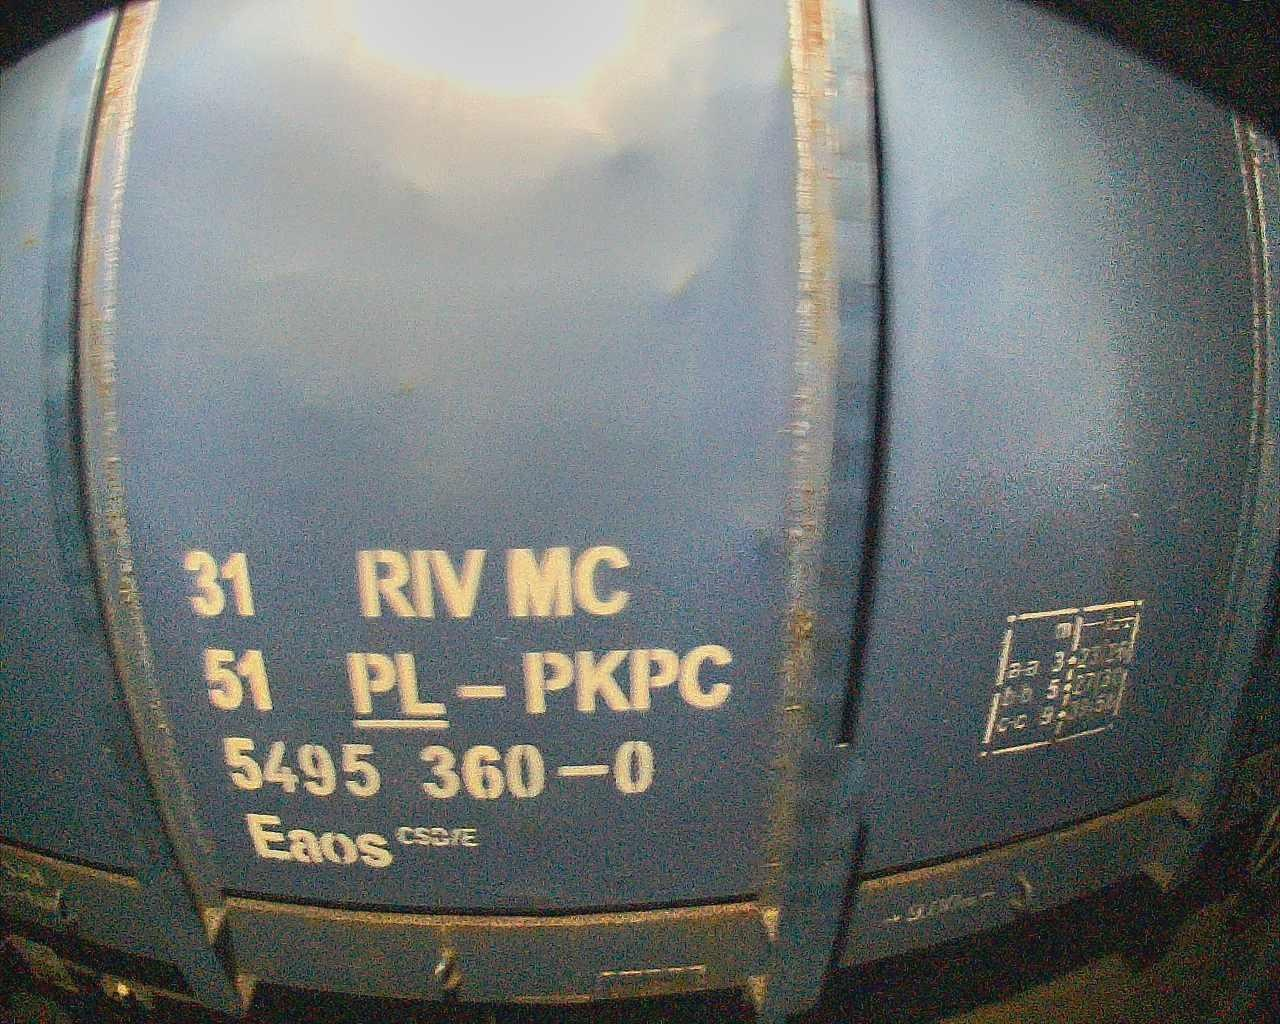UIC: (177, 541, 735, 874)
